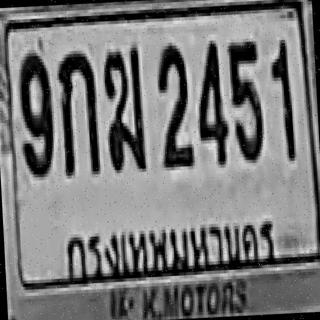A01: (56, 47, 98, 173)
A06: (102, 45, 144, 171)
N01: (268, 35, 295, 160)
N02: (154, 40, 193, 166)
N04: (194, 37, 229, 162)
N05: (226, 37, 264, 162)
N09: (16, 49, 53, 175)
P04: (61, 205, 282, 290)
